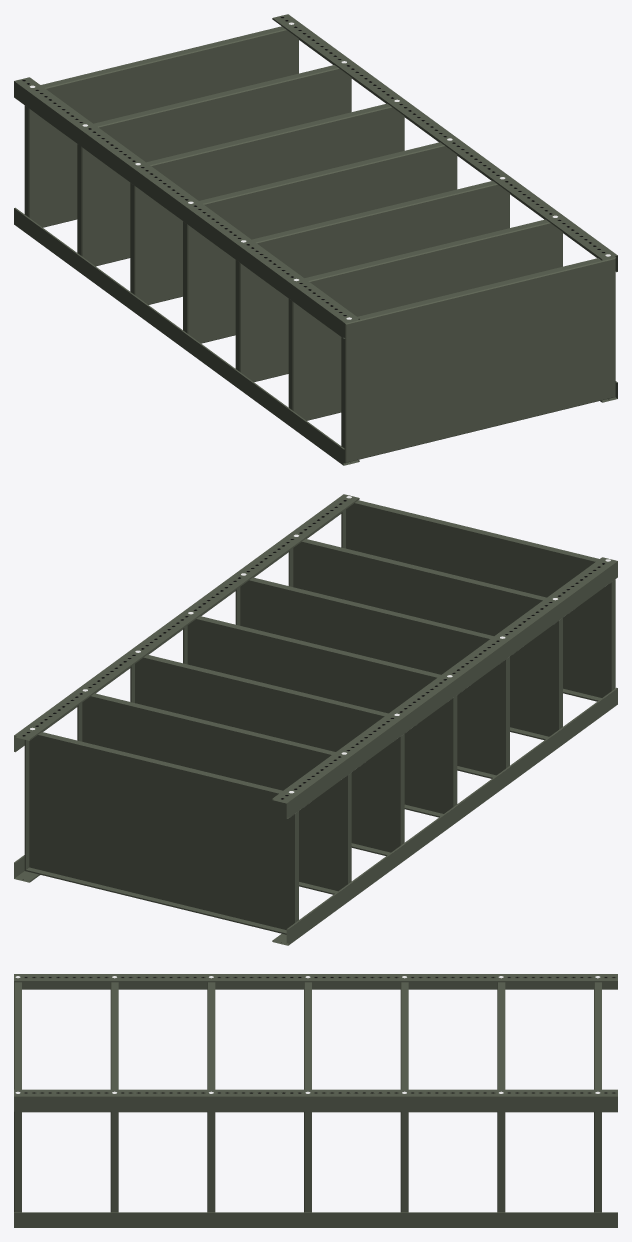
3 views of the same model, one above another, from view 1: azimuth 30°, elevation 25°; view 2: azimuth 150°, elevation 25°; view 3: azimuth 270°, elevation 25° (orthographic). The views are drawn at different scales.
Visible parts, largest first — view 1: PickingShelvesShort.039; view 2: PickingShelvesShort.039; view 3: PickingShelvesShort.039.
Boxes of the visible parts, x1=… form: PickingShelvesShort.039: x1=14, y1=14, x2=617, y2=465; PickingShelvesShort.039: x1=14, y1=494, x2=617, y2=945; PickingShelvesShort.039: x1=14, y1=974, x2=617, y2=1227.
Size of the model in its own units: 0.9144 by 0.4593 by 1.9.
1 material, 1 textured.
